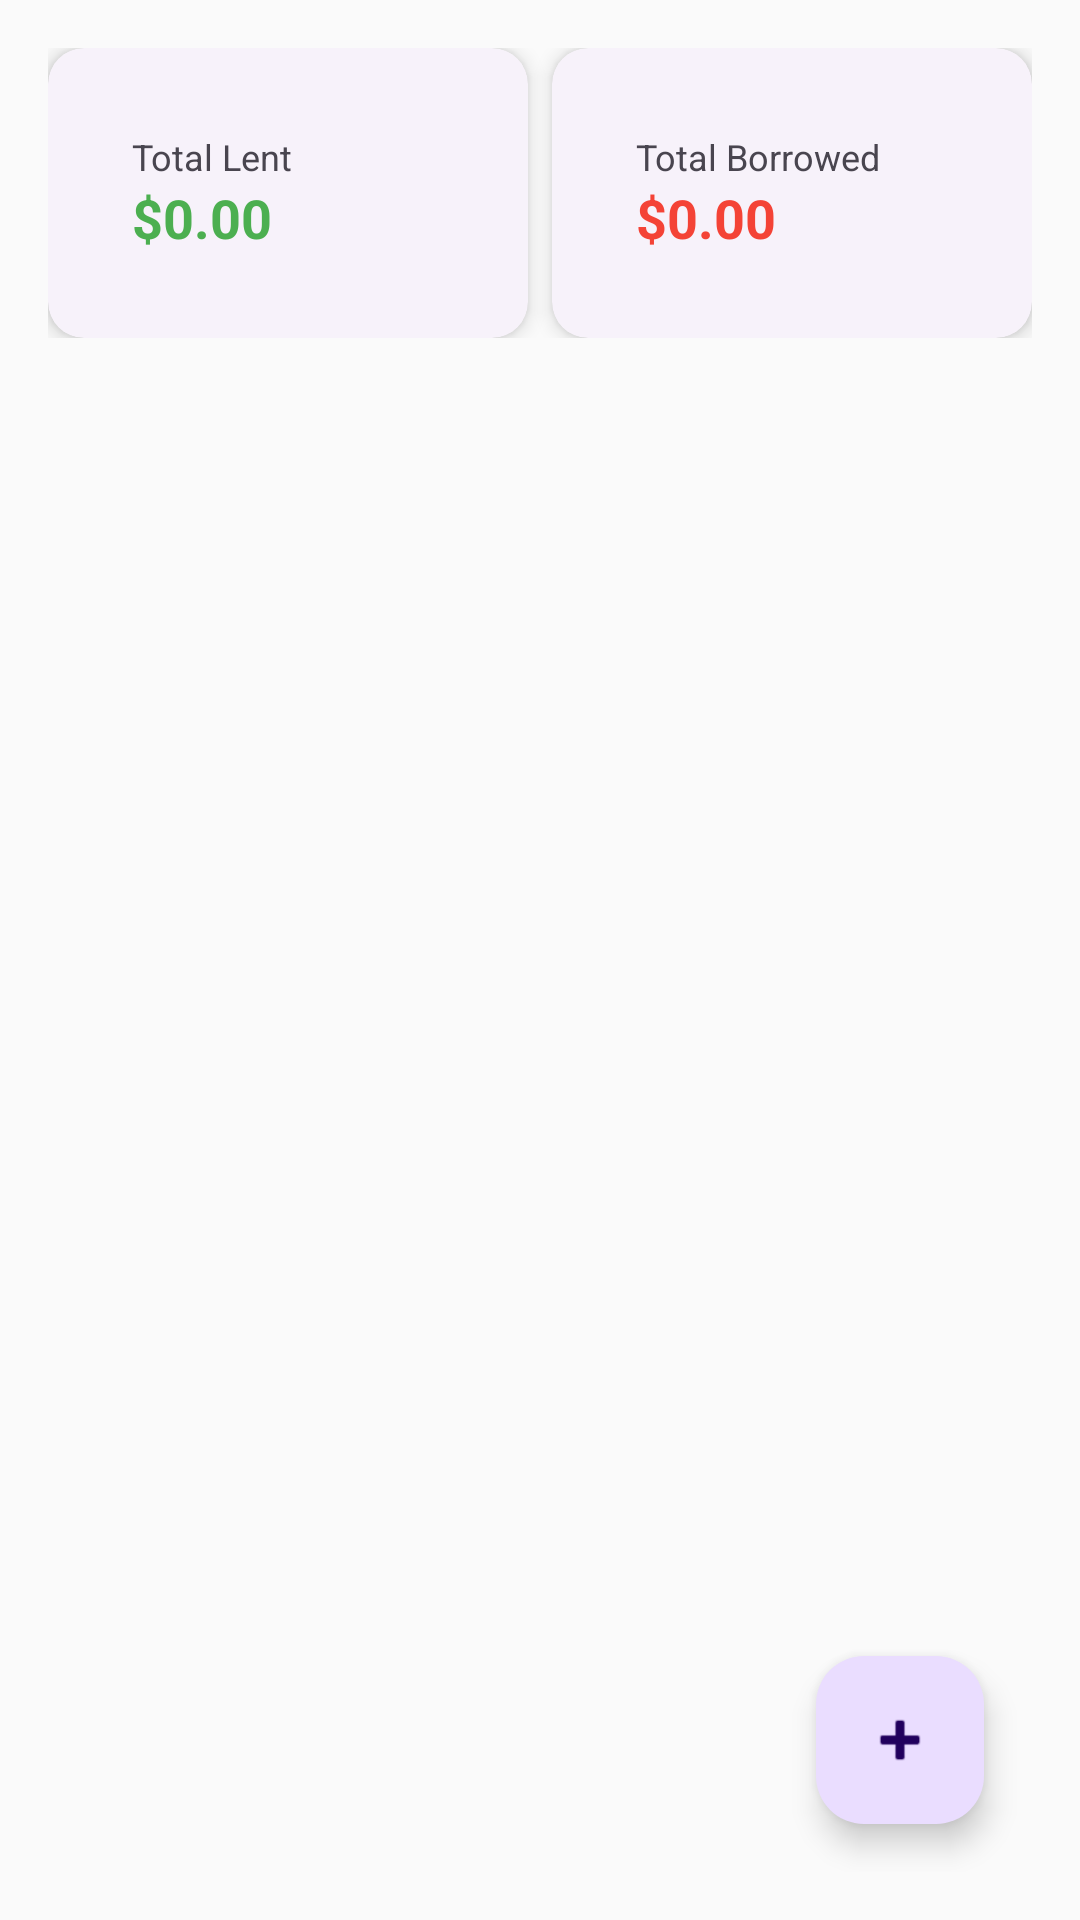

Screen size 1080 × 1920. Icon name, then its box in pixels as BBox(x1, y1, x2, y2):
Add Debt: BBox(816, 1656, 984, 1824)
